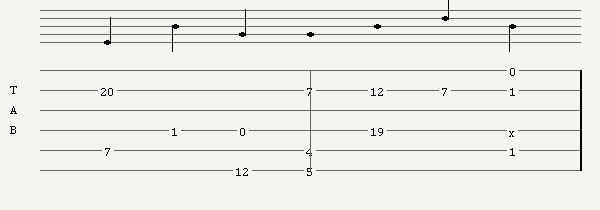0: (239, 124, 250, 136), (509, 64, 520, 76)
1: (171, 124, 182, 136), (509, 144, 520, 156), (509, 84, 520, 96)
12: (235, 164, 253, 176), (370, 84, 388, 96)
19: (370, 124, 388, 136)
20: (100, 84, 118, 96)
4: (306, 144, 317, 156)
5: (306, 164, 317, 176)
7: (104, 144, 115, 156), (306, 84, 317, 96), (441, 84, 452, 96)
x: (509, 125, 519, 135)
